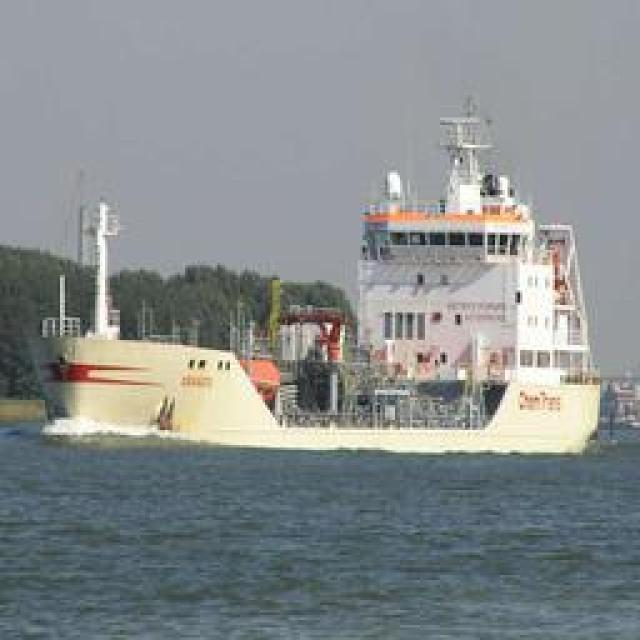ship2: (42, 98, 603, 455)
